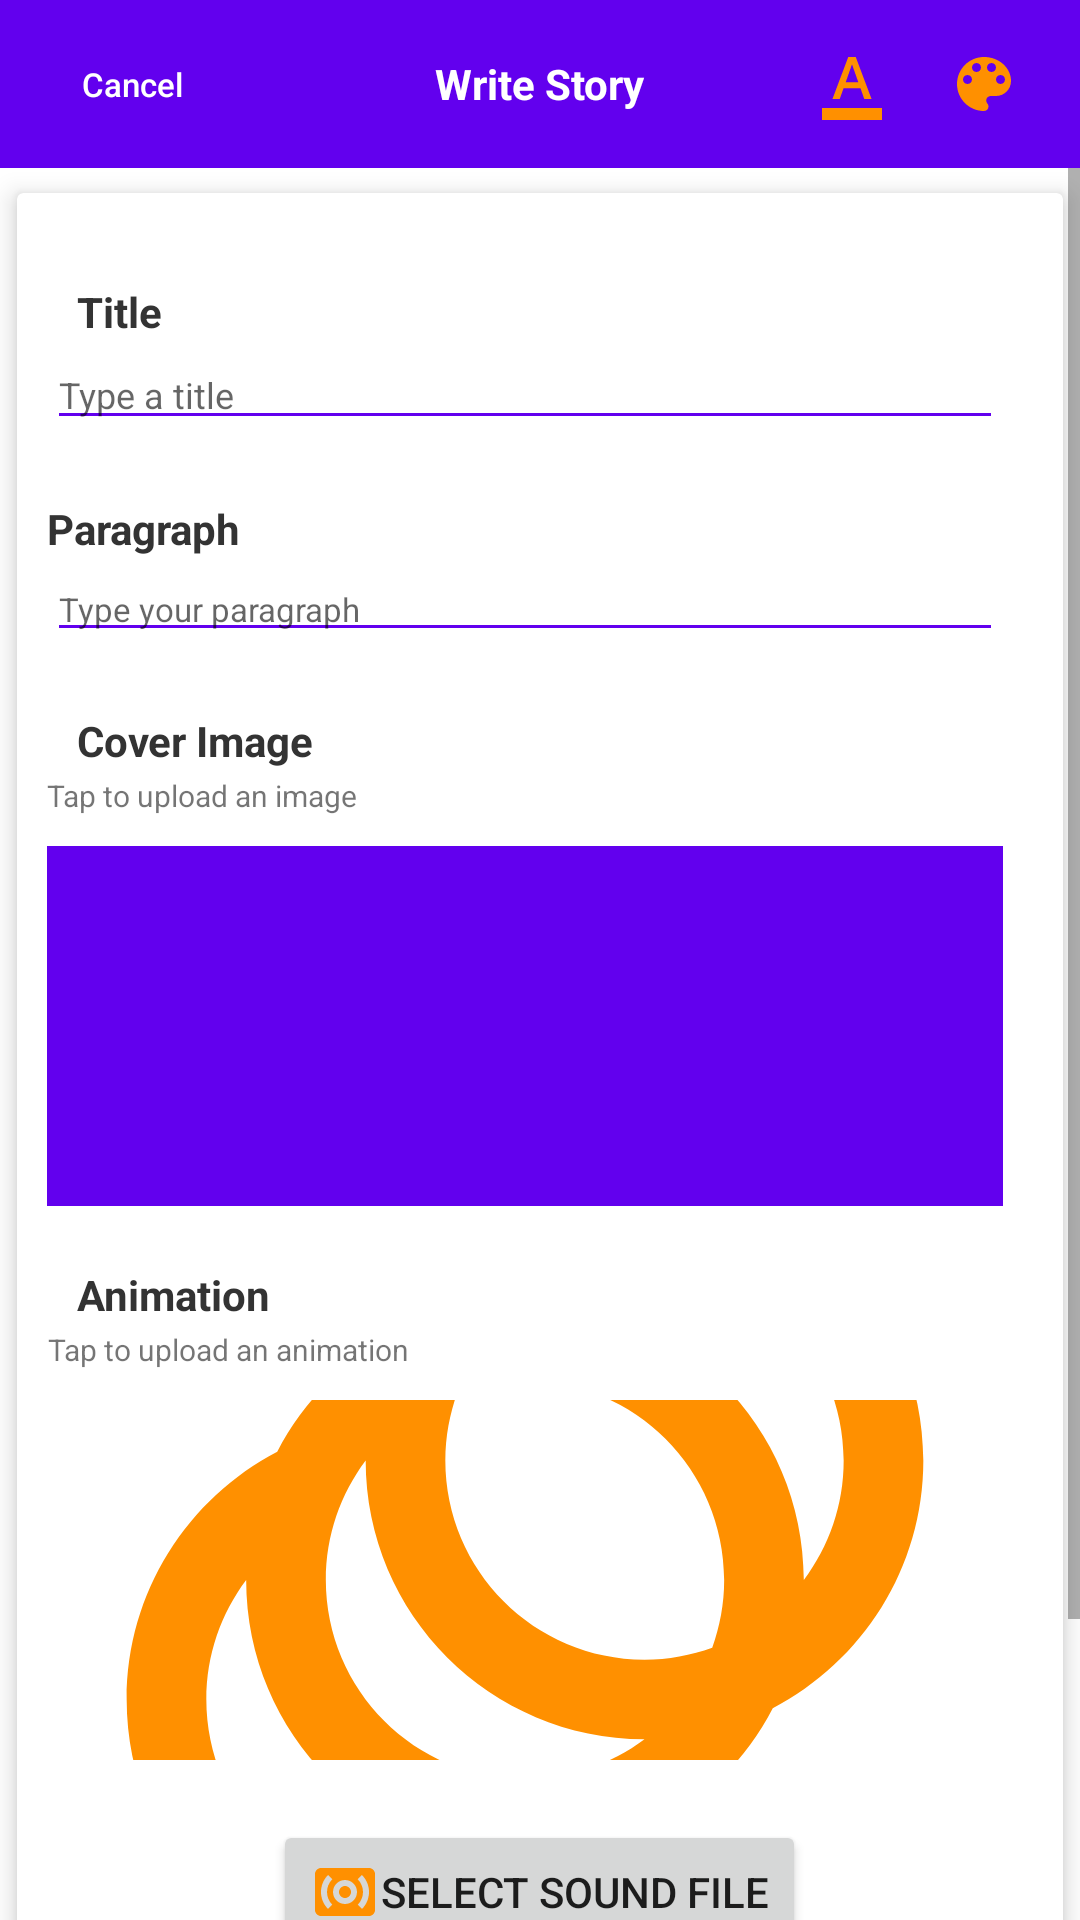

Screen size 1080px x 1920px. Icon name, then its box in pixels as [x1=x1, y1=y1, x2=x2, y2=y2]:
text: [x1=822, y1=57, x2=882, y2=120]
